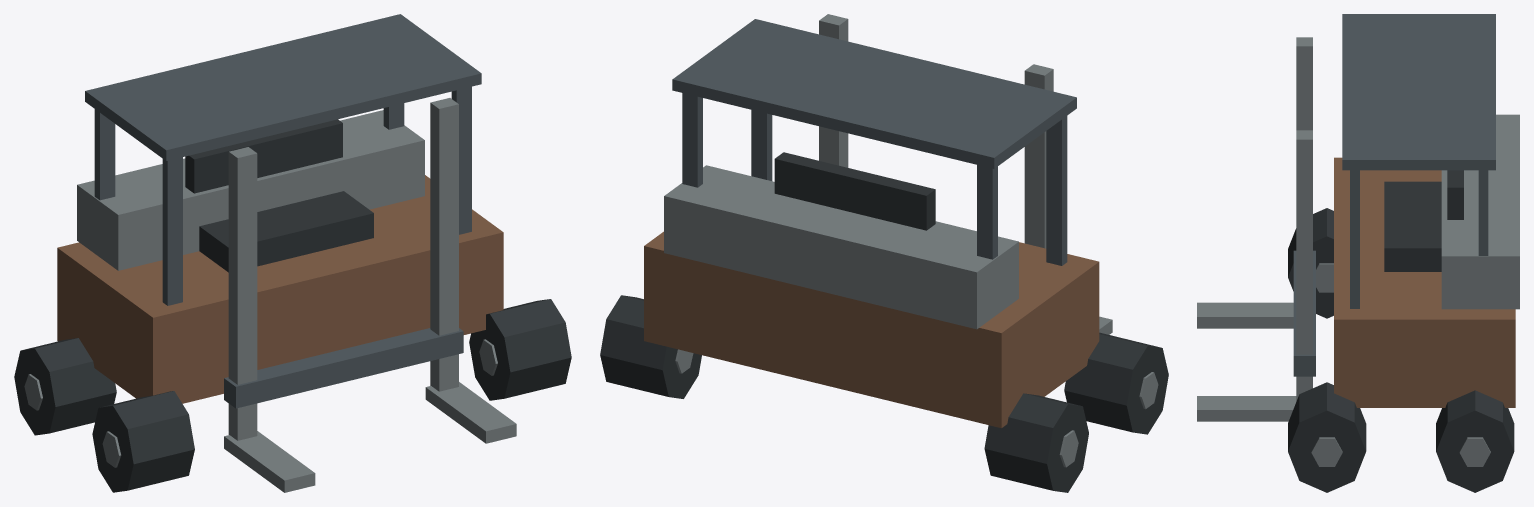
The model's file is forklift.glb.
3 views of the same model, side by side, from view 1: azimuth 30°, elevation 25°; view 2: azimuth 150°, elevation 25°; view 3: azimuth 270°, elevation 25° (orthographic). The views are drawn at different scales.
Parts seen in each view (by area): view 1: forklift; view 2: forklift; view 3: forklift.
Part boxes in pixels (x1,y1,x2,y2): forklift: (14, 14, 571, 492); forklift: (600, 14, 1168, 492); forklift: (1197, 14, 1519, 492).
Size of the model in its own units: 2.88 by 2 by 1.92.
